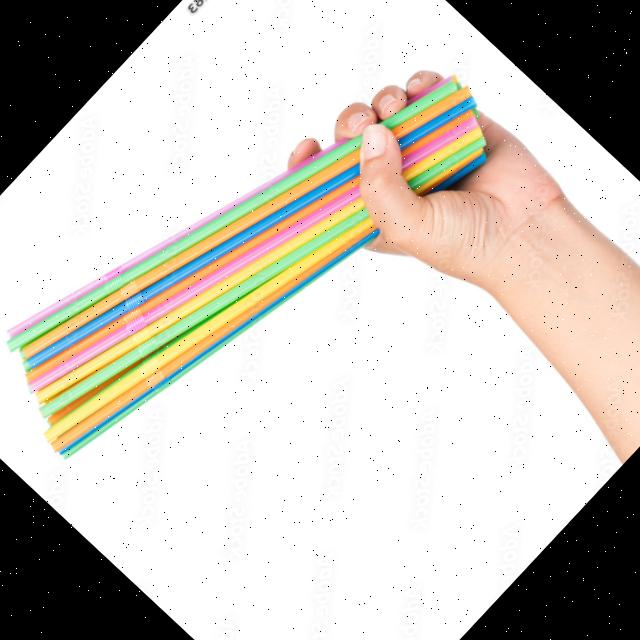plastic: (35, 178, 301, 460)
